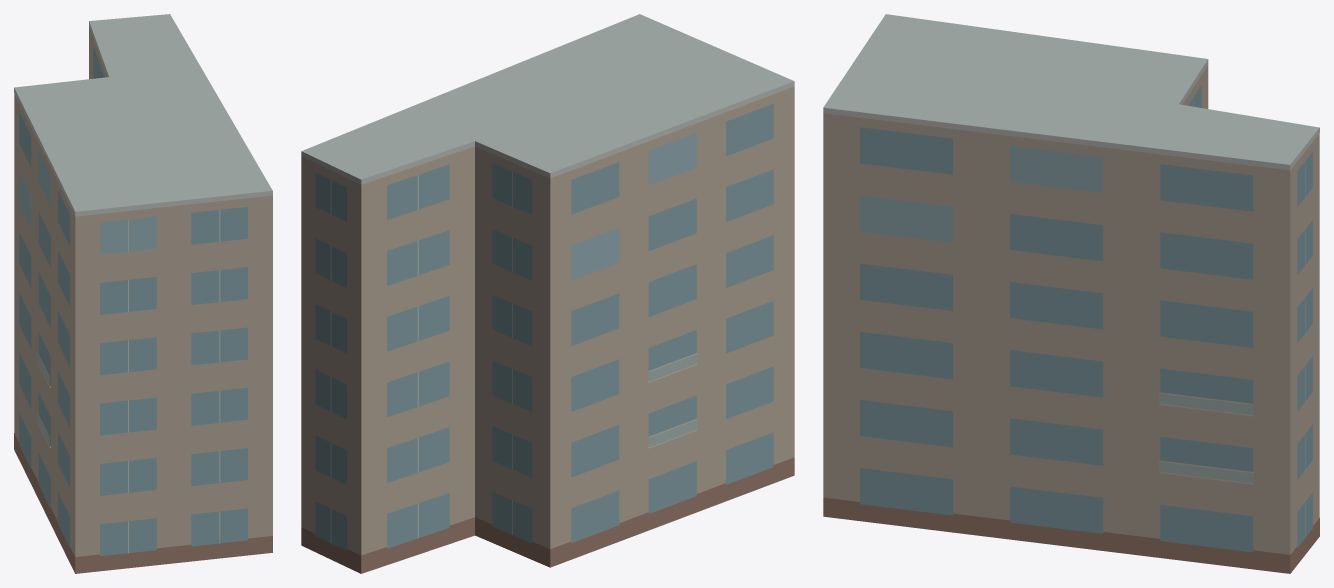
The model's file is survey-upis-32754448.glb.
3 renders of one model, left to right at view 1: azimuth 30°, elevation 25°; view 2: azimuth 150°, elevation 25°; view 3: azimuth 270°, elevation 25°, orthographic. The views are drawn at different scales.
Parts seen in each view (by area): view 1: survey-upis-32754448.tmp; view 2: survey-upis-32754448.tmp; view 3: survey-upis-32754448.tmp.
Boxes of the visible parts, <box> form: survey-upis-32754448.tmp: <box>14,14,272,573</box>; survey-upis-32754448.tmp: <box>301,14,794,573</box>; survey-upis-32754448.tmp: <box>823,14,1319,573</box>.
Bounding box in the file's own units: 14.49 × 18.3 × 20.15.
